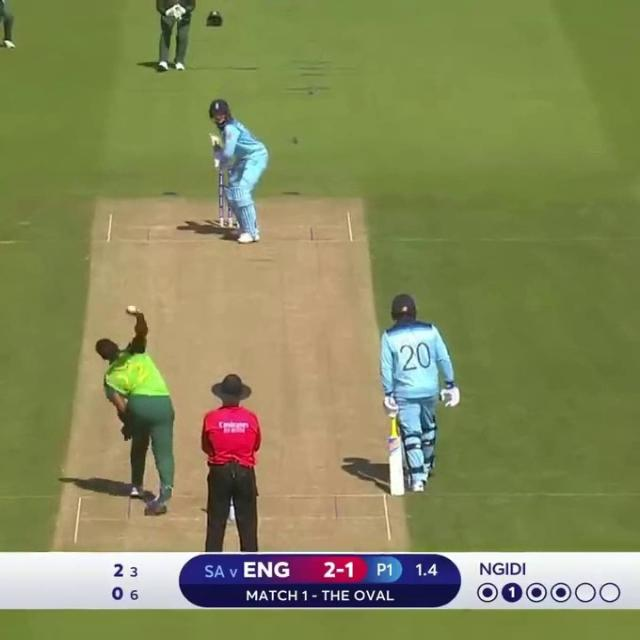bat: (388, 436, 404, 497), (209, 135, 221, 146)
toe: (390, 492, 404, 496)
